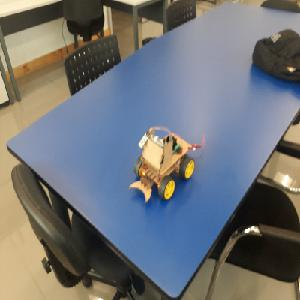Robot: (128, 127, 195, 201)
